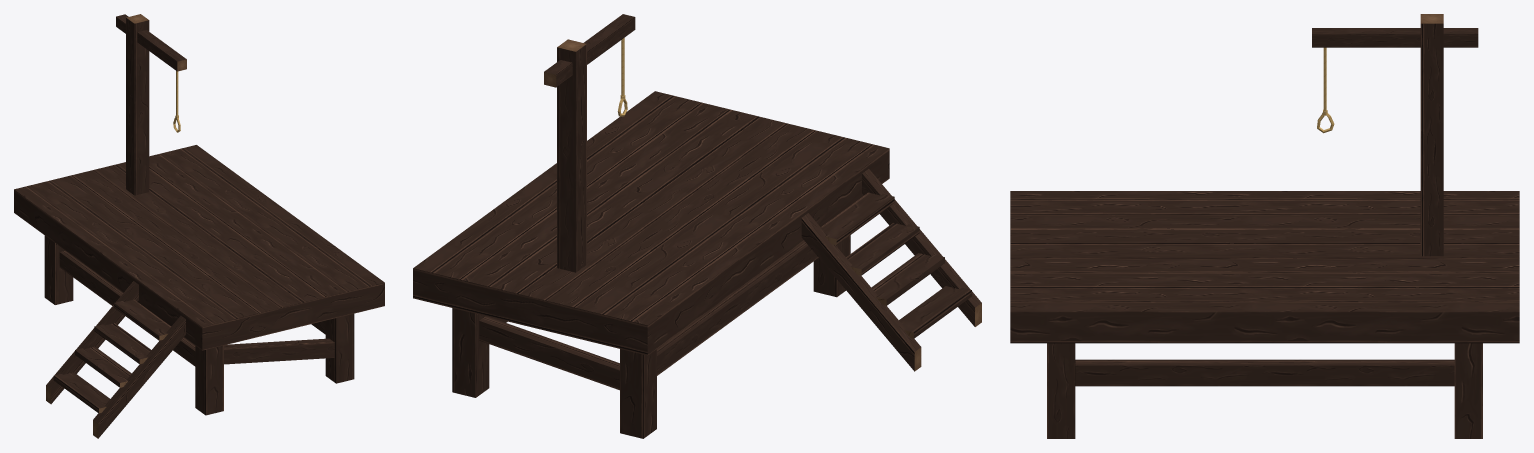
The model's file is HangTable.fbx.
3 views of the same model, side by side, from view 1: azimuth 30°, elevation 25°; view 2: azimuth 150°, elevation 25°; view 3: azimuth 270°, elevation 25° (orthographic). The views are drawn at different scales.
Visible parts, largest first — view 1: Cube.001; view 2: Cube.001; view 3: Cube.001.
Boxes of the visible parts, x1,y1,x2,y2 form: Cube.001: (14,14,384,438); Cube.001: (413,14,981,438); Cube.001: (1010,14,1519,438).
Size of the model in its own units: 1.66 by 1.61 by 2.
